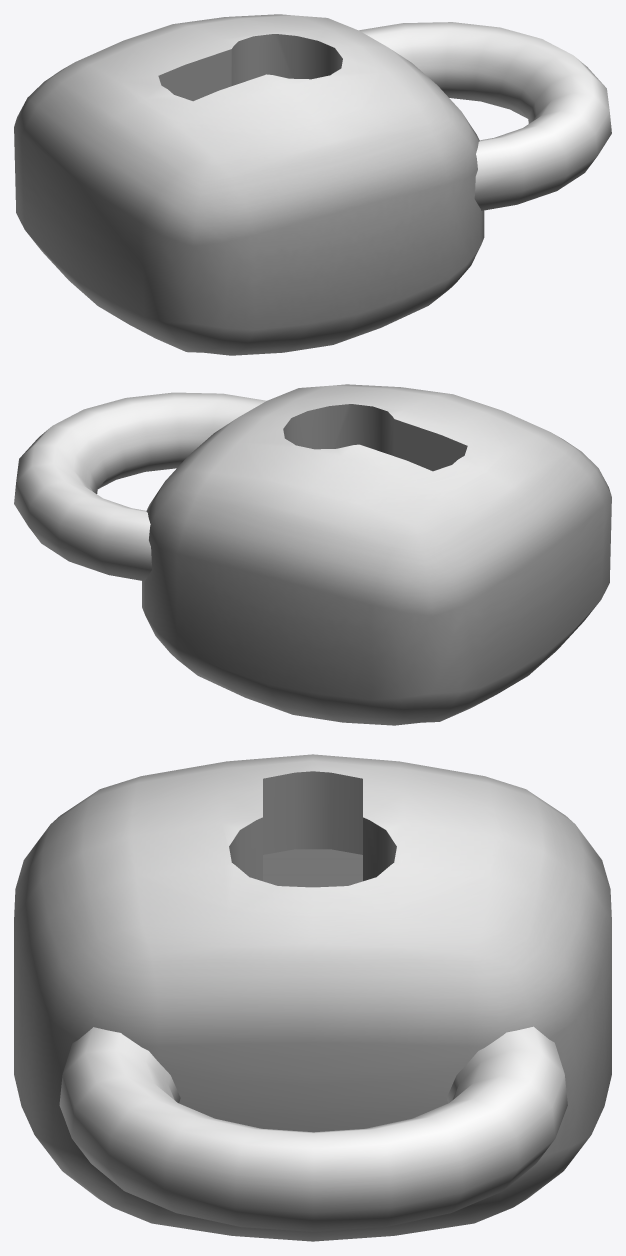
File: Lock.fbx
The picture shows the model from 3 angles, top to bottom: view 1: azimuth 30°, elevation 25°; view 2: azimuth 150°, elevation 25°; view 3: azimuth 270°, elevation 25°; orthographic projection. The views are drawn at different scales.
Visible parts, largest first — view 1: polySurface2, extracted_01; view 2: polySurface2, extracted_01; view 3: polySurface2, extracted_01.
Part boxes in pixels (box(x1,y1,x2,y2)): polySurface2: box(14, 14, 484, 355); extracted_01: box(359, 22, 611, 210); polySurface2: box(142, 384, 611, 725); extracted_01: box(14, 392, 266, 581); polySurface2: box(14, 754, 611, 1241); extracted_01: box(59, 1026, 567, 1231).
Size of the model in its own units: 333 by 154 by 232.
1 material, 1 textured.
